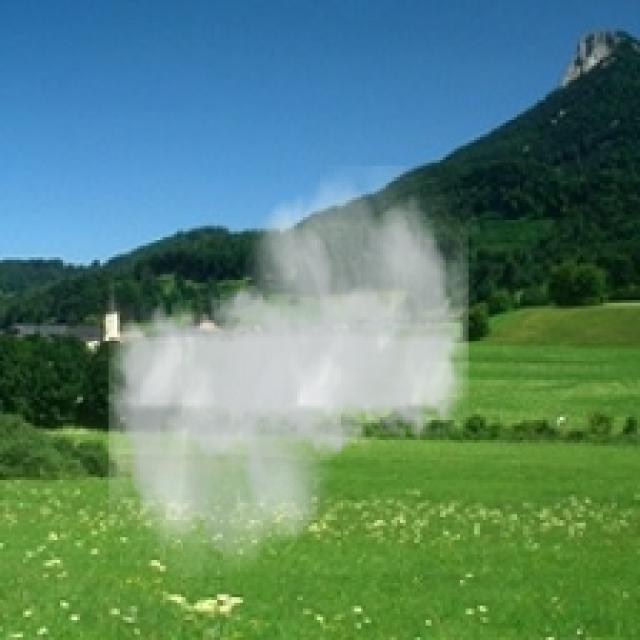smoke: (109, 166, 468, 577)
